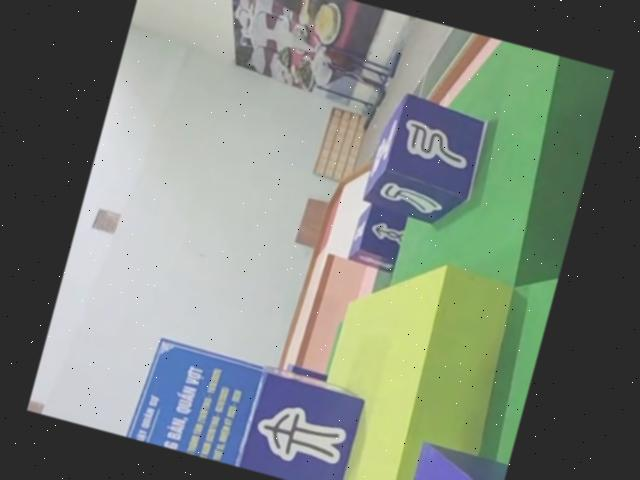R2 Fake Blue: (235, 363, 370, 480), (403, 443, 508, 480)
R2 Real Blue: (358, 89, 492, 234), (345, 196, 410, 273)
